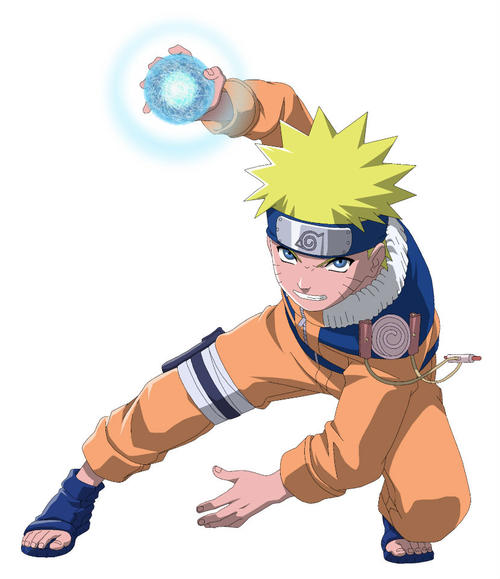naruto: (261, 201, 390, 315)
